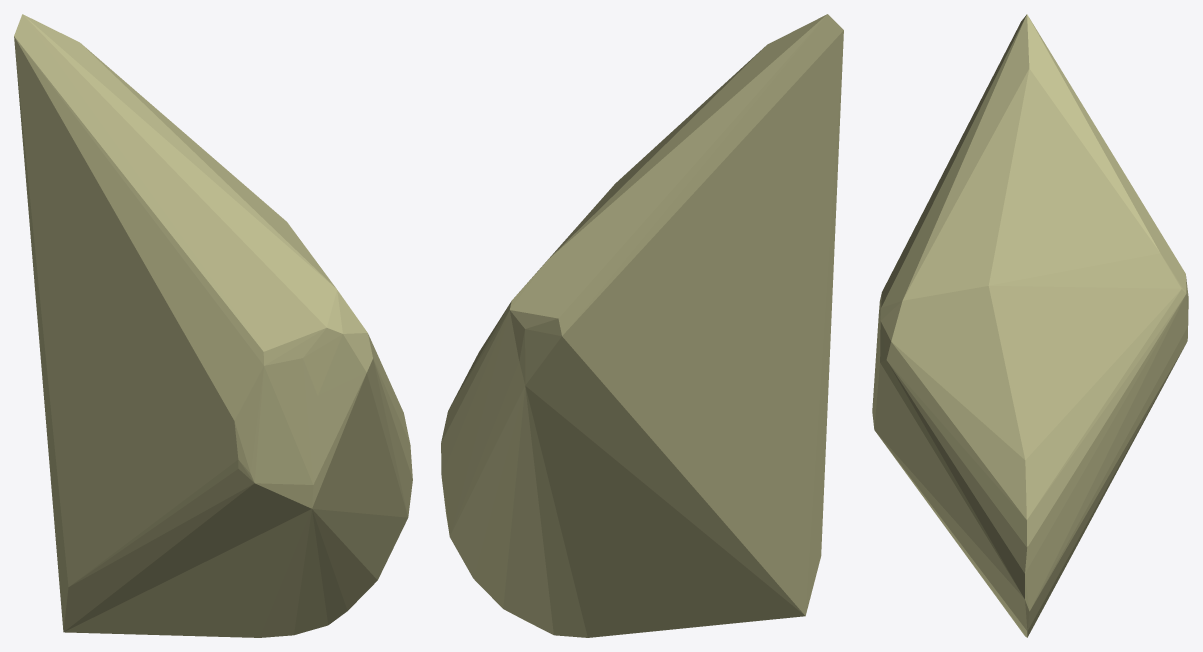
File: computer_scanner_barcode_d01.glb
The picture shows the model from 3 angles, left to right: view 1: azimuth 30°, elevation 25°; view 2: azimuth 150°, elevation 25°; view 3: azimuth 270°, elevation 25°; orthographic projection. The views are drawn at different scales.
Visible parts, largest first — view 1: geometry_0; view 2: geometry_0; view 3: geometry_0.
Part boxes in pixels (x1,y1,x2,y2): geometry_0: (14, 14, 412, 637); geometry_0: (441, 14, 843, 637); geometry_0: (872, 14, 1188, 637).
Size of the model in its own units: 0.292 by 0.479 by 0.2669.
